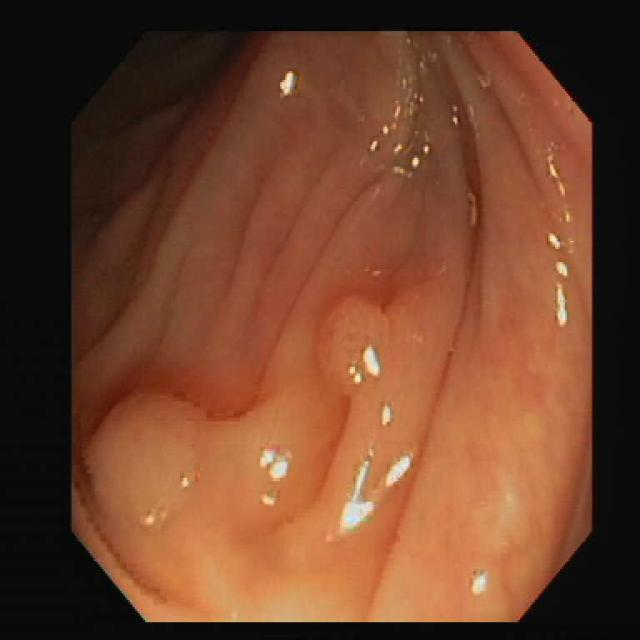tumor: (78, 393, 213, 536), (320, 293, 387, 384)
